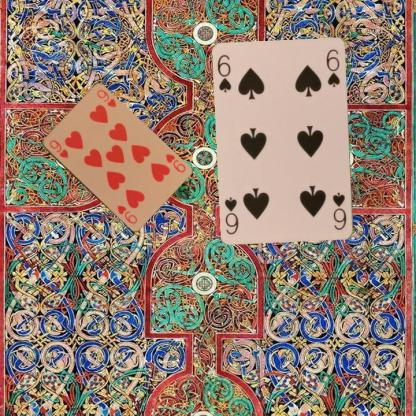6s: (330, 190, 348, 232), (215, 52, 233, 94)
9h: (162, 151, 187, 174), (46, 138, 70, 160)
